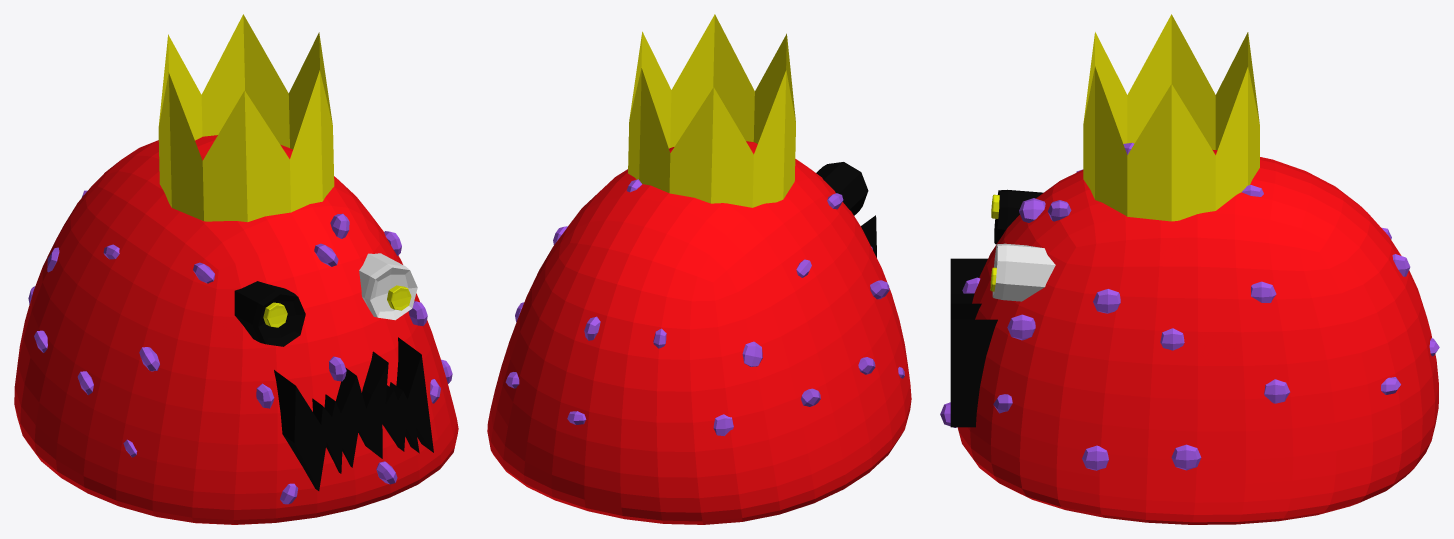
File: SMILE2.fbx
3 views of the same model, side by side, from view 1: azimuth 30°, elevation 25°; view 2: azimuth 150°, elevation 25°; view 3: azimuth 270°, elevation 25° (orthographic). The views are drawn at different scales.
Visible parts, largest first — view 1: Cube, Cylinder, Cube.007, Cube.005, Cube.001; view 2: Cube, Cylinder, Cube.005; view 3: Cube, Cylinder, Cube.007, Cube.001, Cube.005, Cube.022, Cube.016.
Part boxes in pixels (x1=…): Cube: x1=14, y1=135, x2=458, y2=524; Cylinder: x1=158, y1=14, x2=334, y2=222; Cube.007: x1=274, y1=337, x2=433, y2=490; Cube.005: x1=234, y1=281, x2=305, y2=346; Cube.001: x1=359, y1=253, x2=417, y2=320; Cube: x1=487, y1=141, x2=911, y2=524; Cylinder: x1=628, y1=14, x2=795, y2=207; Cube.005: x1=816, y1=162, x2=868, y2=215; Cube: x1=957, y1=149, x2=1438, y2=524; Cylinder: x1=1083, y1=14, x2=1259, y2=221; Cube.007: x1=950, y1=258, x2=997, y2=427; Cube.001: x1=992, y1=243, x2=1055, y2=301; Cube.005: x1=994, y1=189, x2=1043, y2=244; Cube.022: x1=1171, y1=444, x2=1201, y2=470; Cube.016: x1=1007, y1=314, x2=1035, y2=340.
Size of the model in its own units: 803 by 849 by 959.
